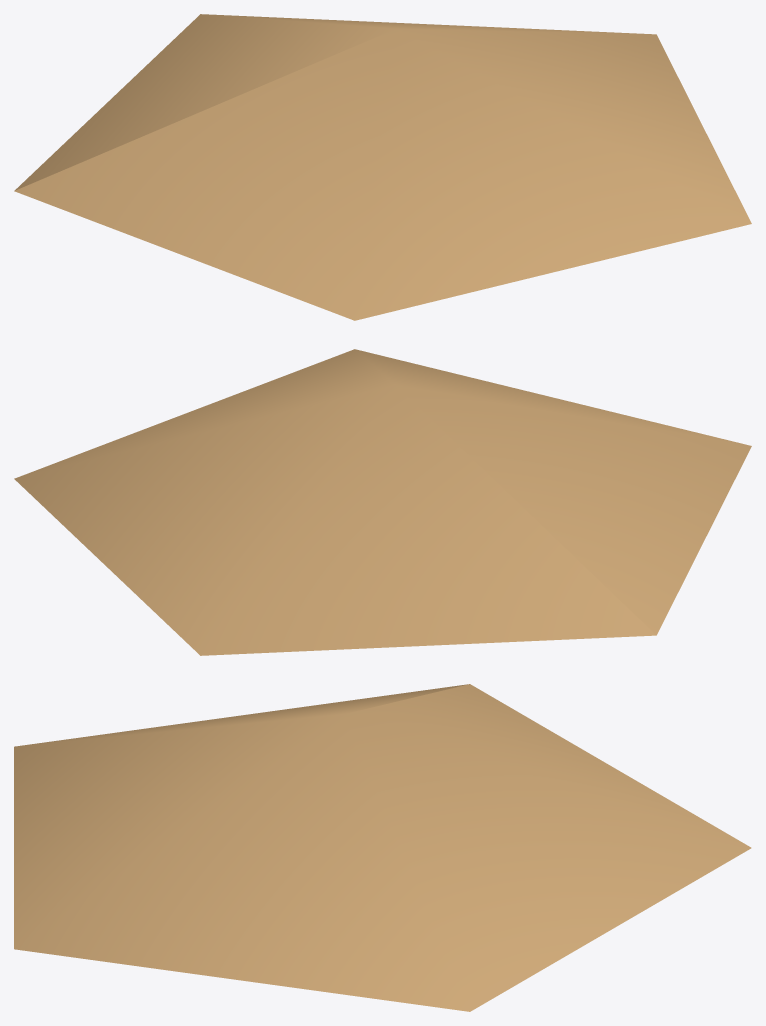
File: Pyramid_FiveSides.fbx
3 renders of one model, top to bottom at view 1: azimuth 30°, elevation 25°; view 2: azimuth 150°, elevation 25°; view 3: azimuth 270°, elevation 25°, orthographic. The views are drawn at different scales.
Parts seen in each view (by area): view 1: Pyramid_FiveSides; view 2: Pyramid_FiveSides; view 3: Pyramid_FiveSides.
Boxes of the visible parts, x1,y1,x2,y2 form: Pyramid_FiveSides: (14, 14, 751, 320); Pyramid_FiveSides: (14, 349, 751, 655); Pyramid_FiveSides: (14, 684, 751, 1011).
Size of the model in its own units: 21.03 by 4 by 20.
